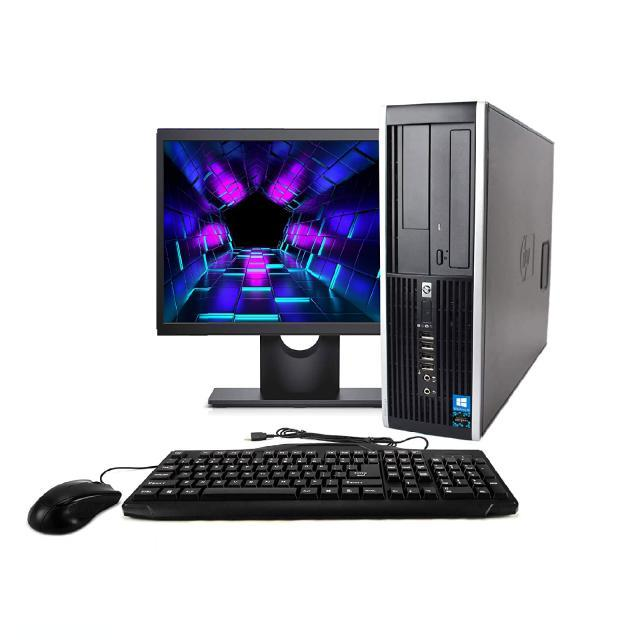Computer-Keyboard: (127, 430, 545, 556)
Computer-Mouse: (20, 450, 118, 542)
Desktop-PC: (382, 85, 600, 438)
Flat-Panel-Monitor: (145, 109, 381, 388)
